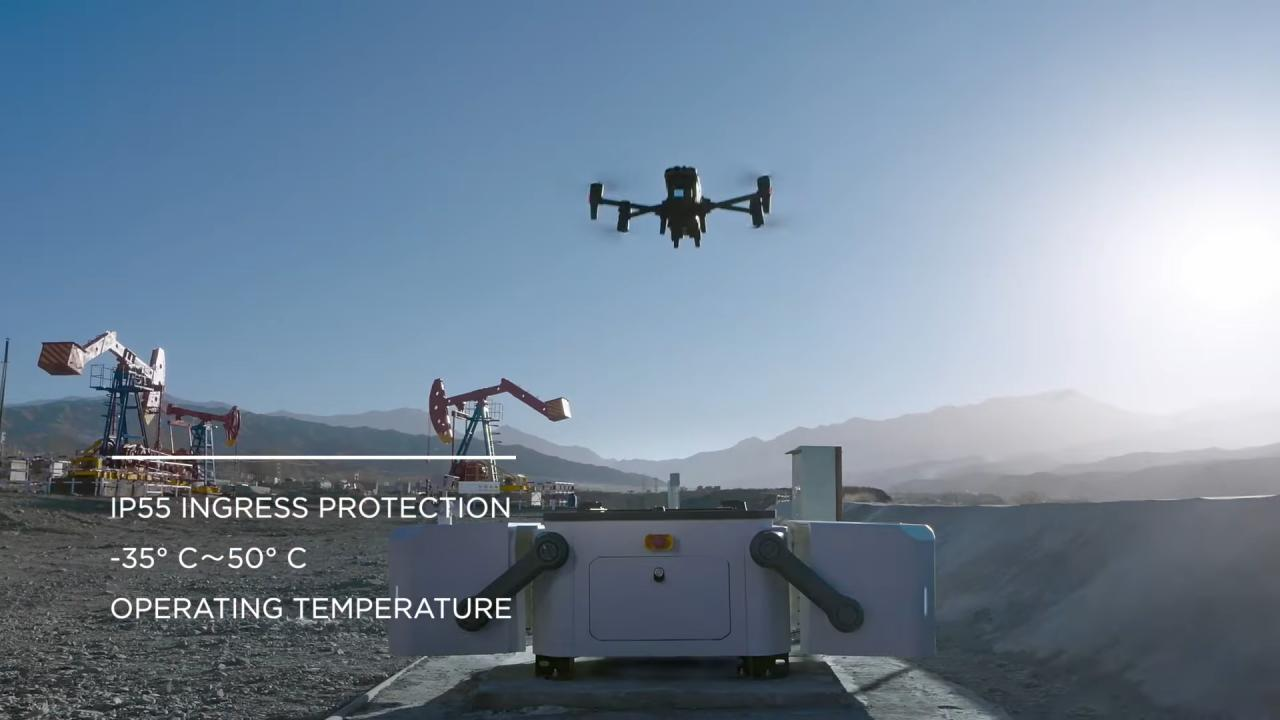Drone: (558, 146, 804, 262)
